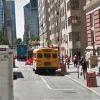Bus: (29, 46, 60, 77)
